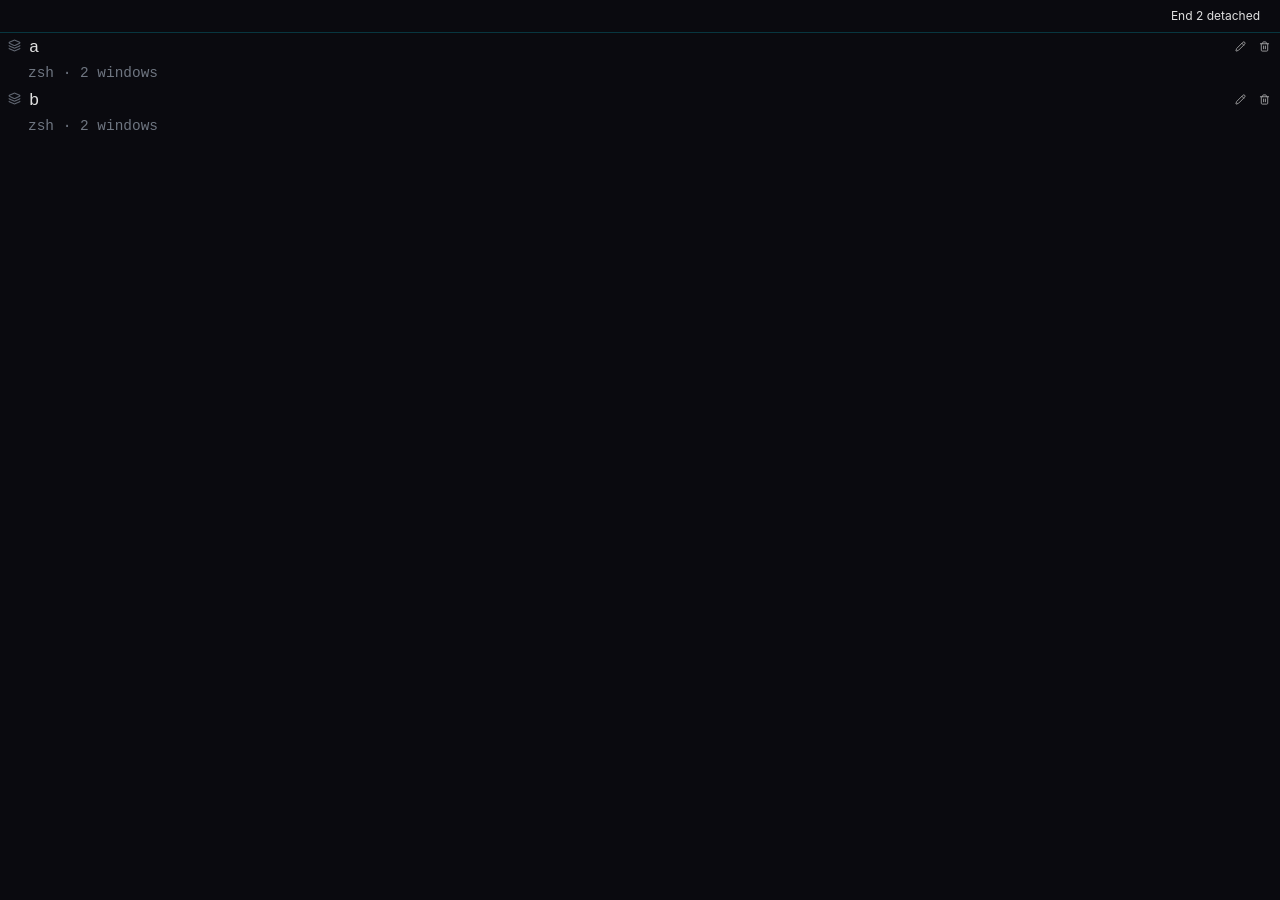
Test: TmuxTool › reports how many refused to die rather than one opaque failure
Click the button "End 2 detached".
click(1215, 16)  # box x1=1159 y1=4 x2=1272 y2=28
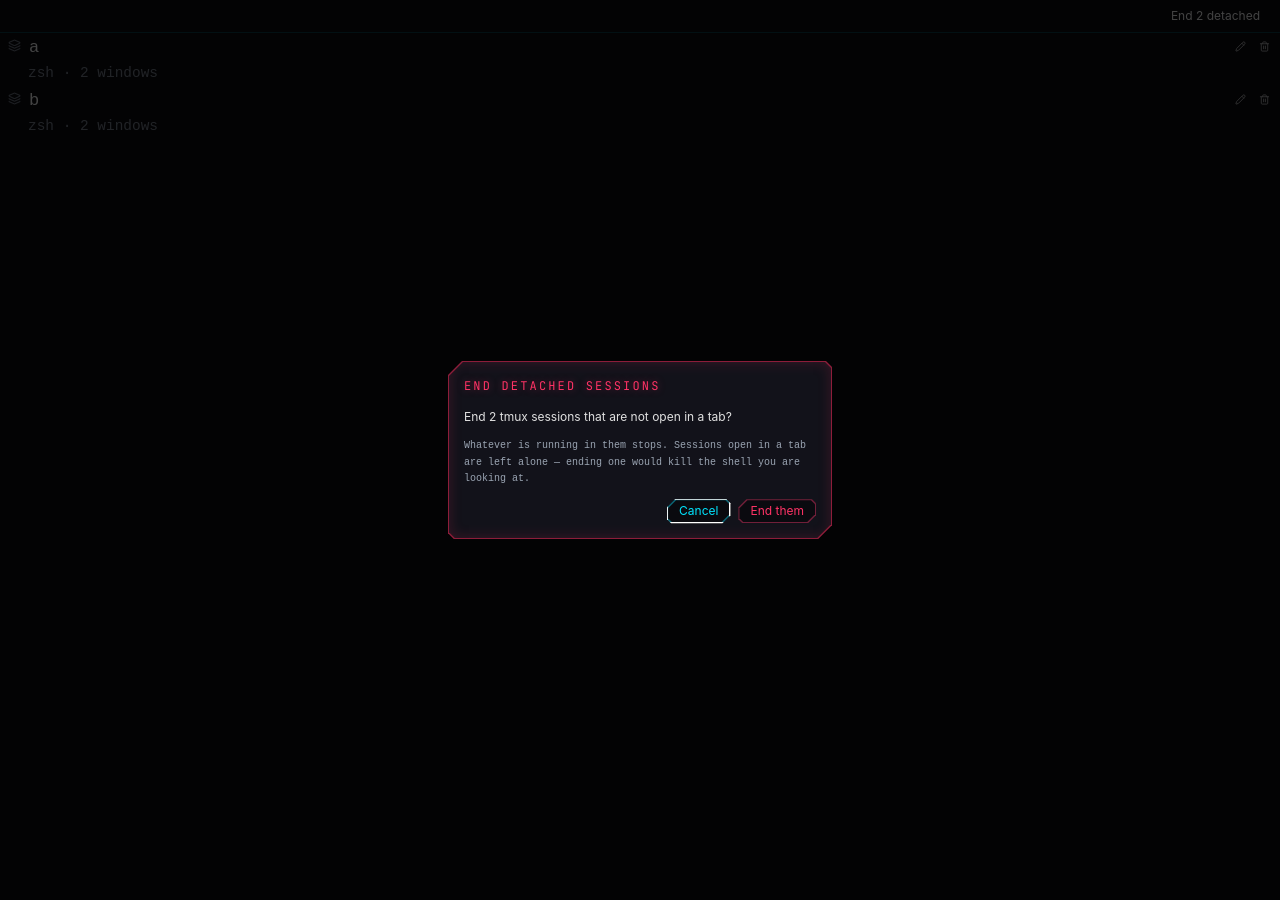
Click the button "End them".
click(777, 511)  # box x1=738 y1=499 x2=816 y2=523
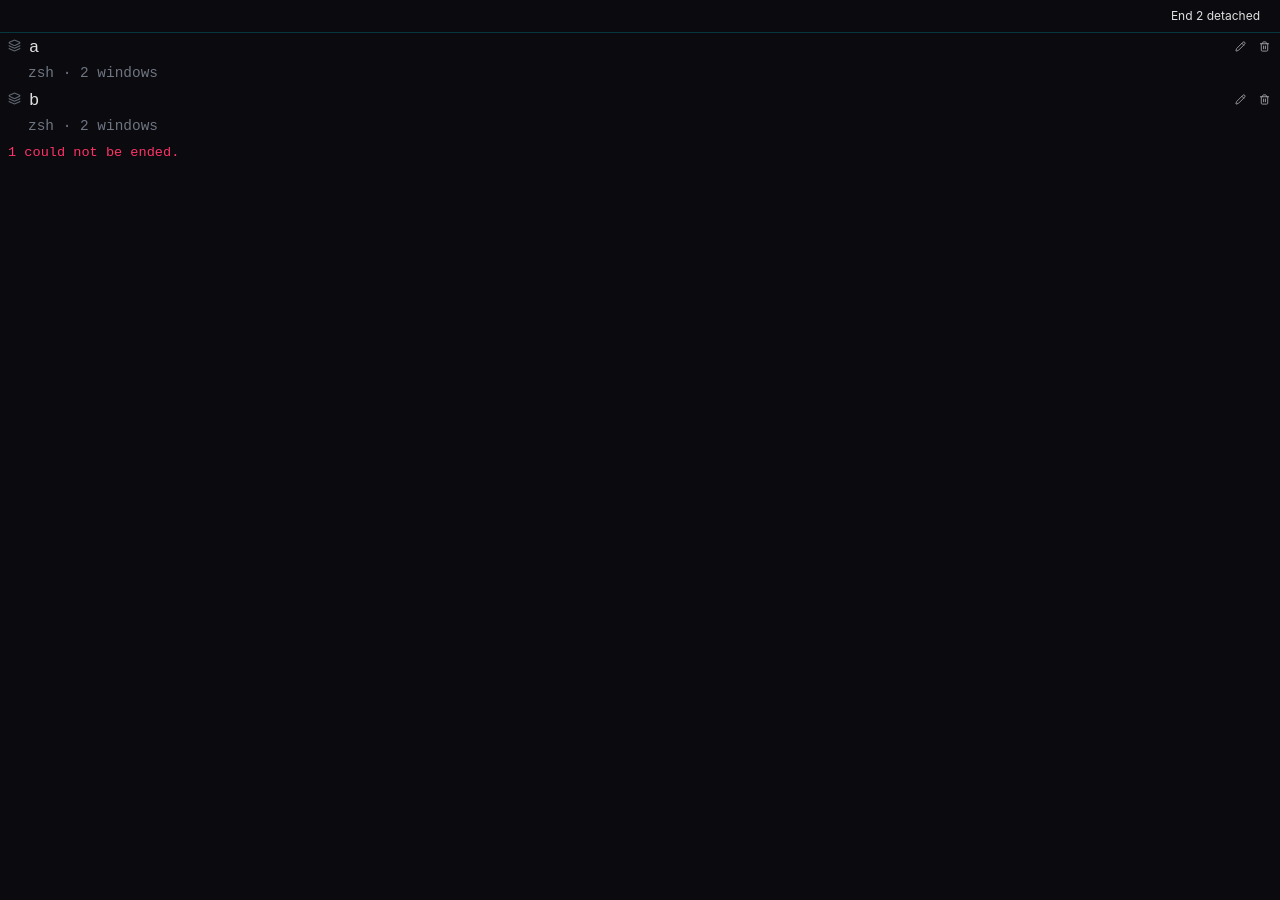
Result: the text "1 could not be ended." is shown at x1=8 y1=145 x2=179 y2=160
